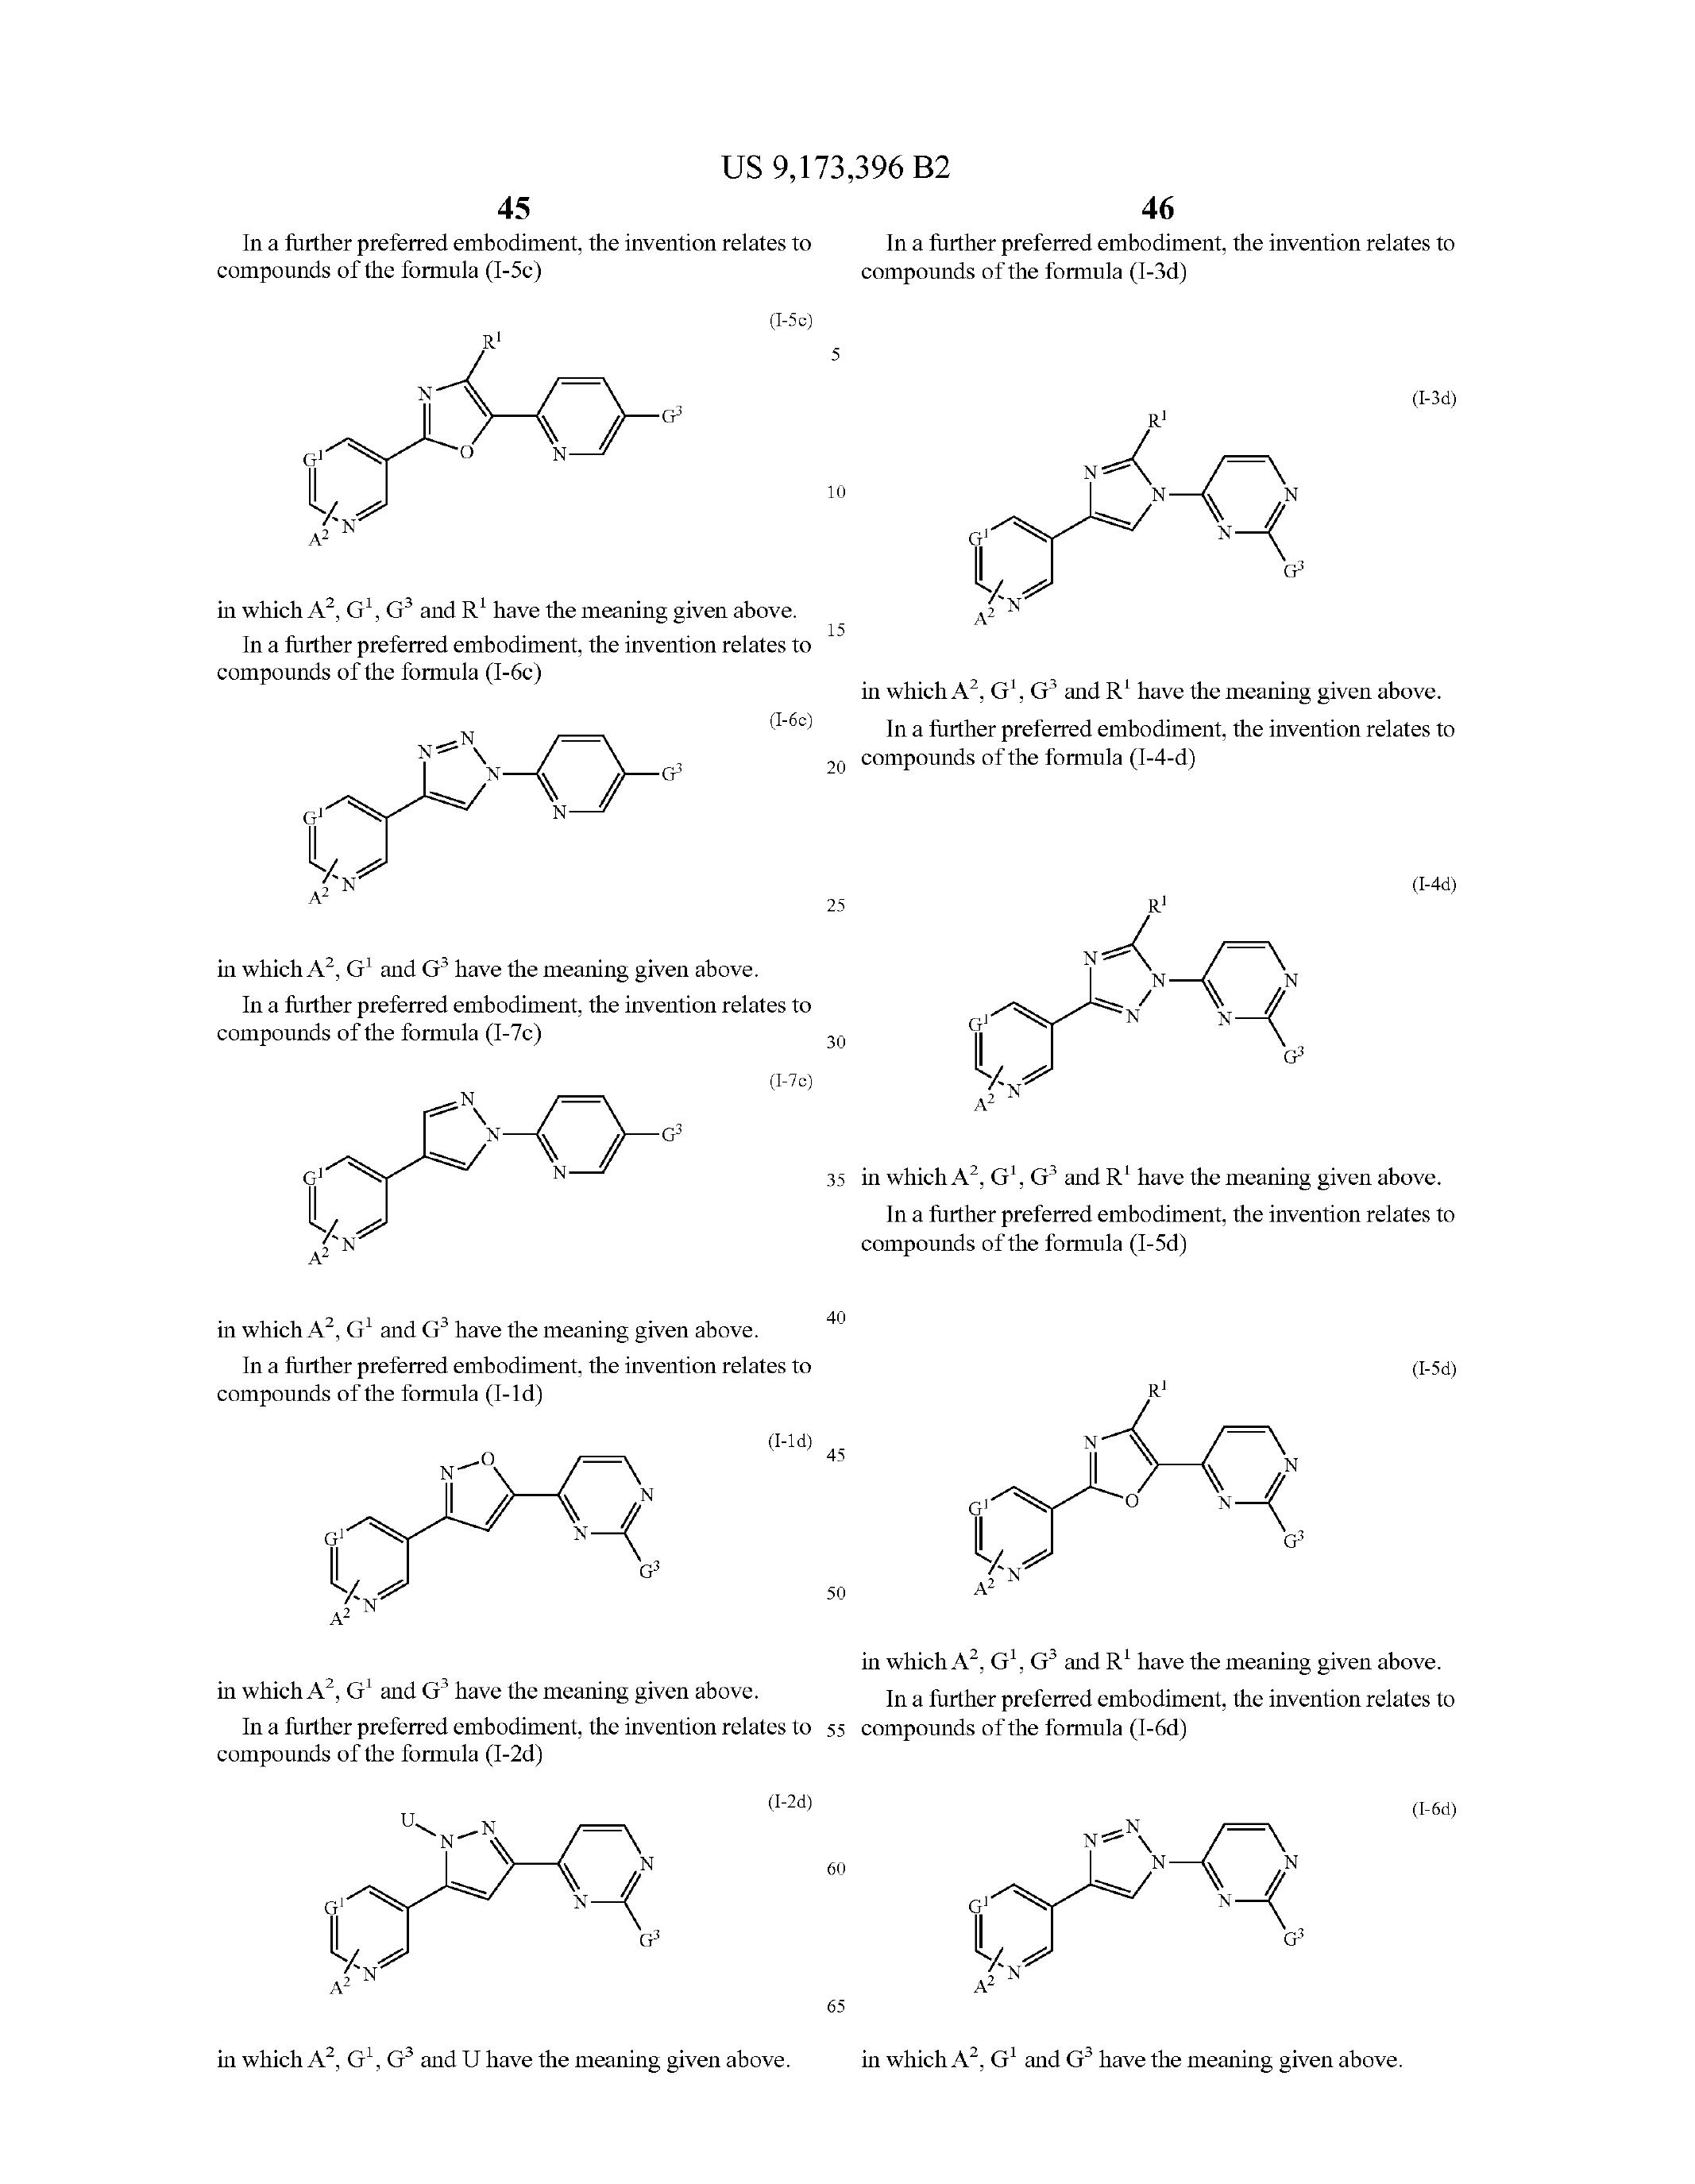substitutes: (160, 282, 791, 562)
